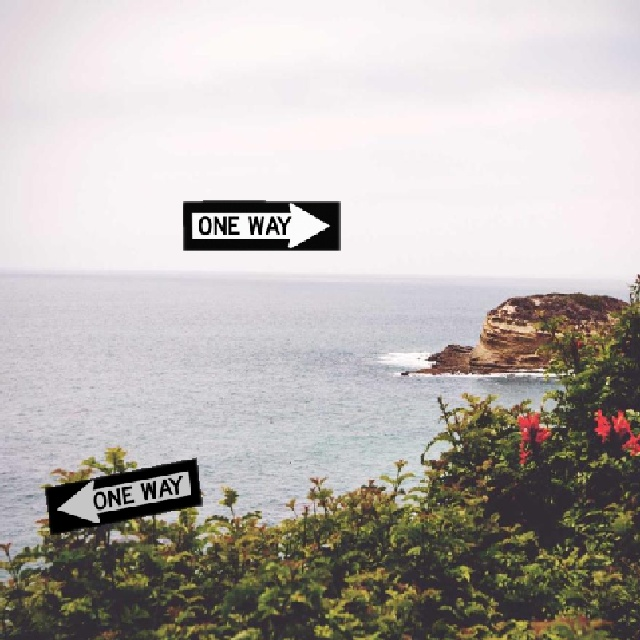ONE_WAY_ left: (43, 456, 201, 534)
ONE_WAY_ right: (181, 199, 339, 250)
